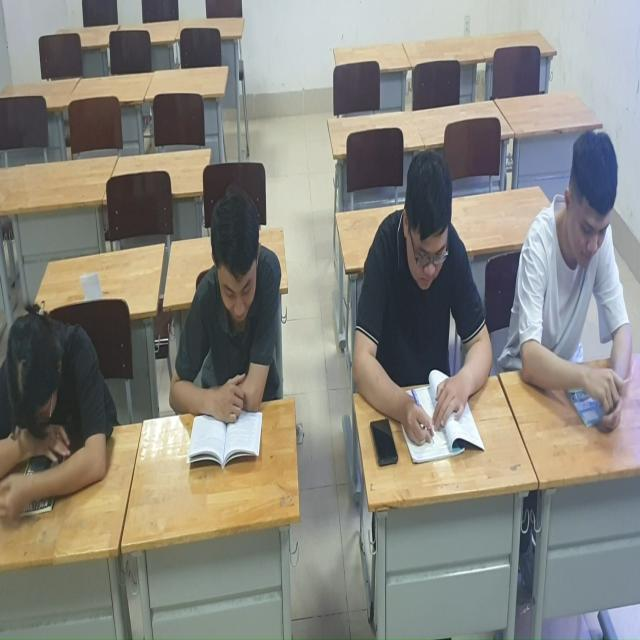read: (347, 144, 497, 482), (160, 160, 294, 475), (518, 142, 635, 437)
sleep: (1, 298, 121, 512)
